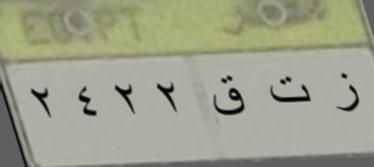2: (111, 69, 146, 126), (152, 75, 188, 124), (26, 82, 60, 128)
4: (75, 78, 100, 126)
qaaf: (212, 64, 246, 124)
taa: (264, 68, 316, 114)
zay: (329, 63, 363, 120)
